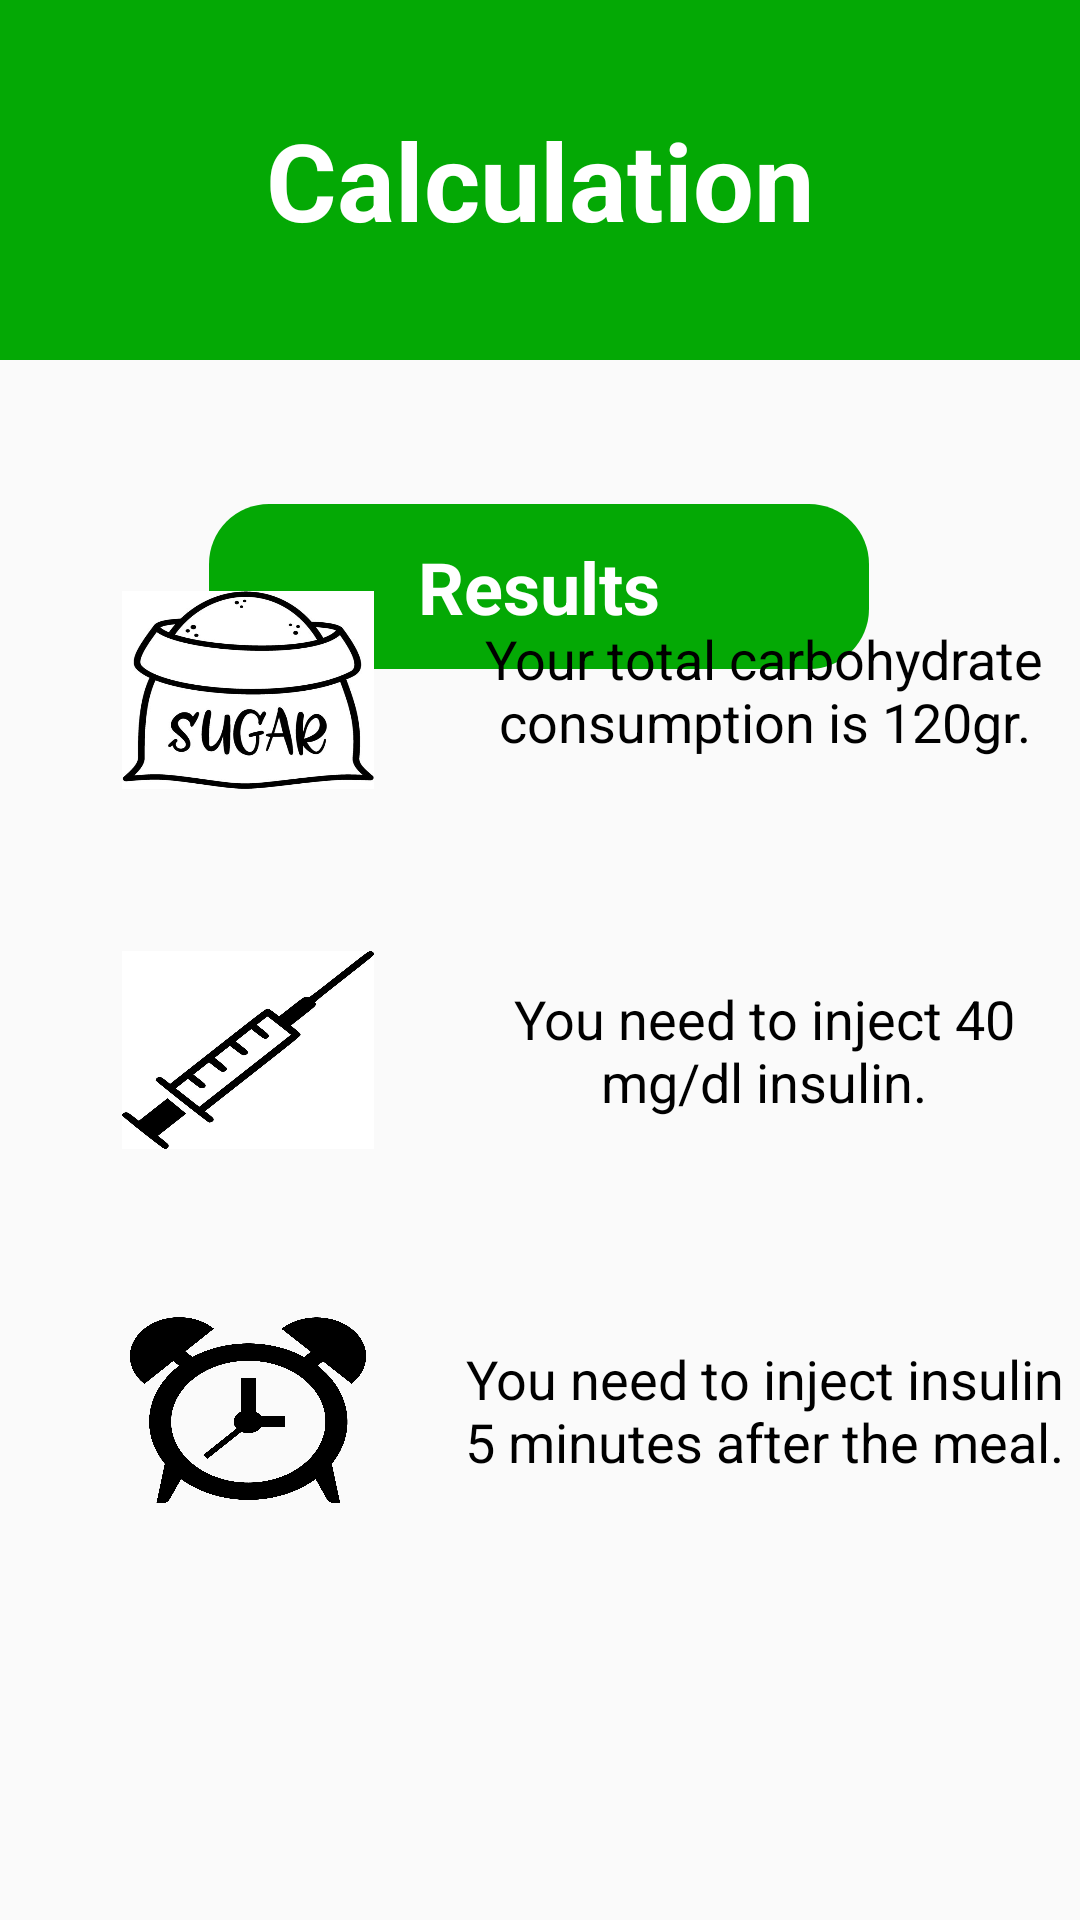

Icon bounding boxes for this 1080px x 1920px phone screenshot, format (x1, y1, x2, y2):
clock: (130, 1317, 366, 1503)
needle: (122, 951, 374, 1149)
